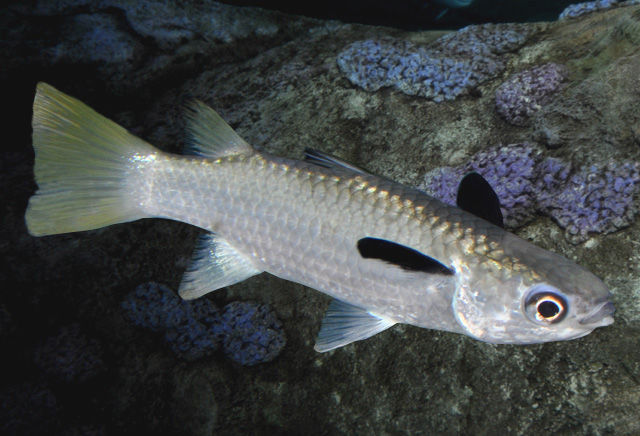fish: (25, 80, 617, 354)
